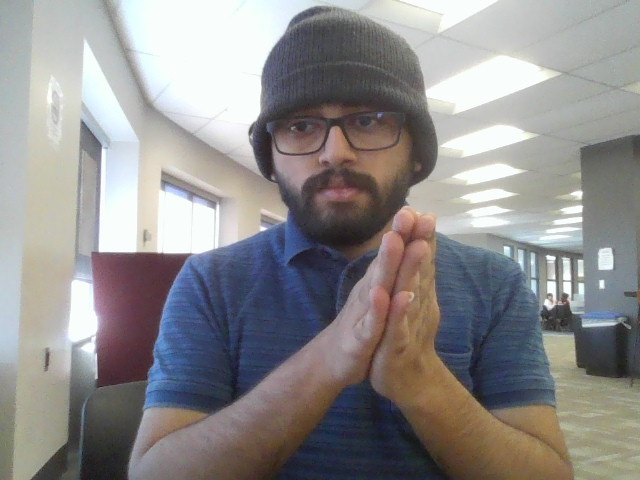start: (315, 204, 460, 406)
